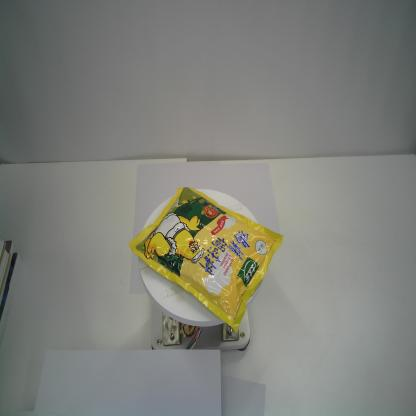Seasoner: (127, 184, 284, 332)
